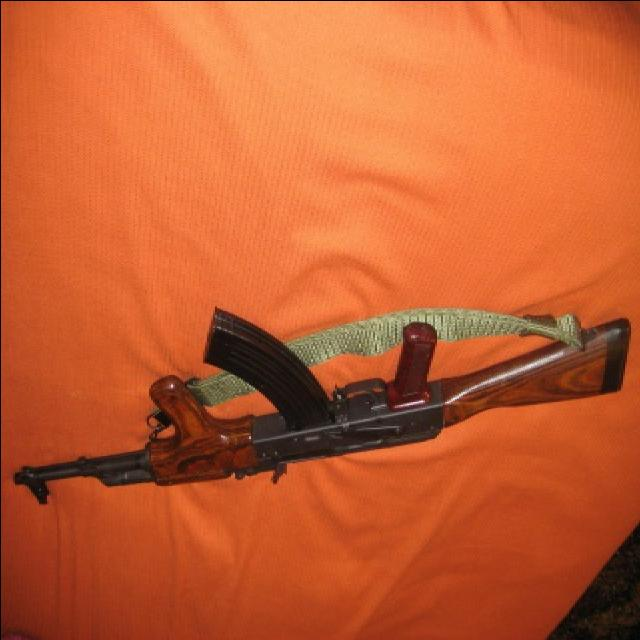rifle: (13, 308, 637, 506)
